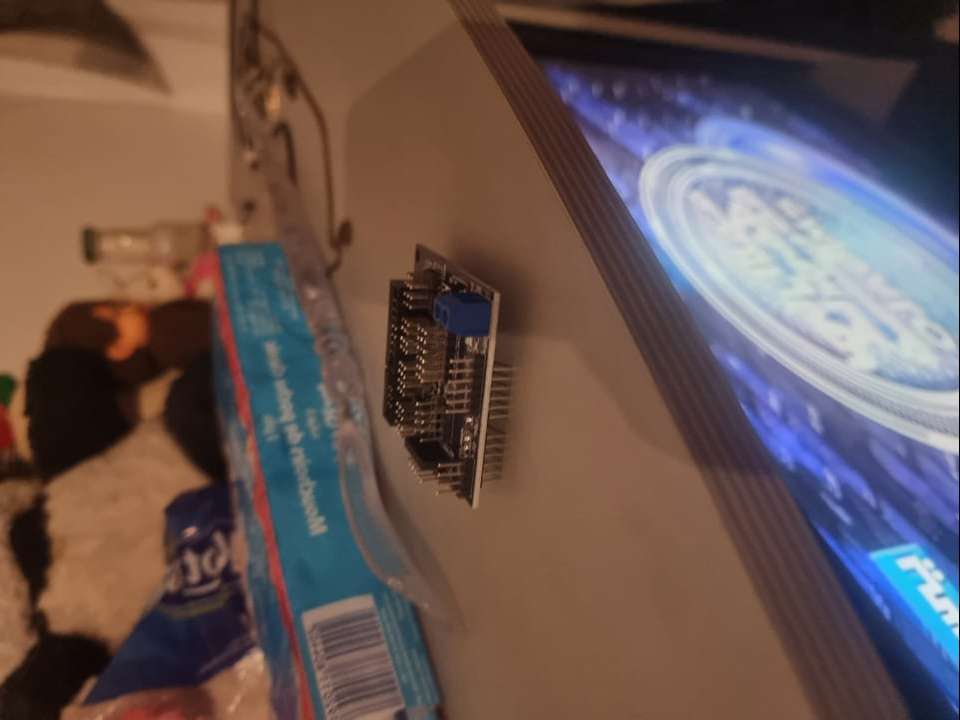5V EXPANSION: (380, 243, 505, 511)
